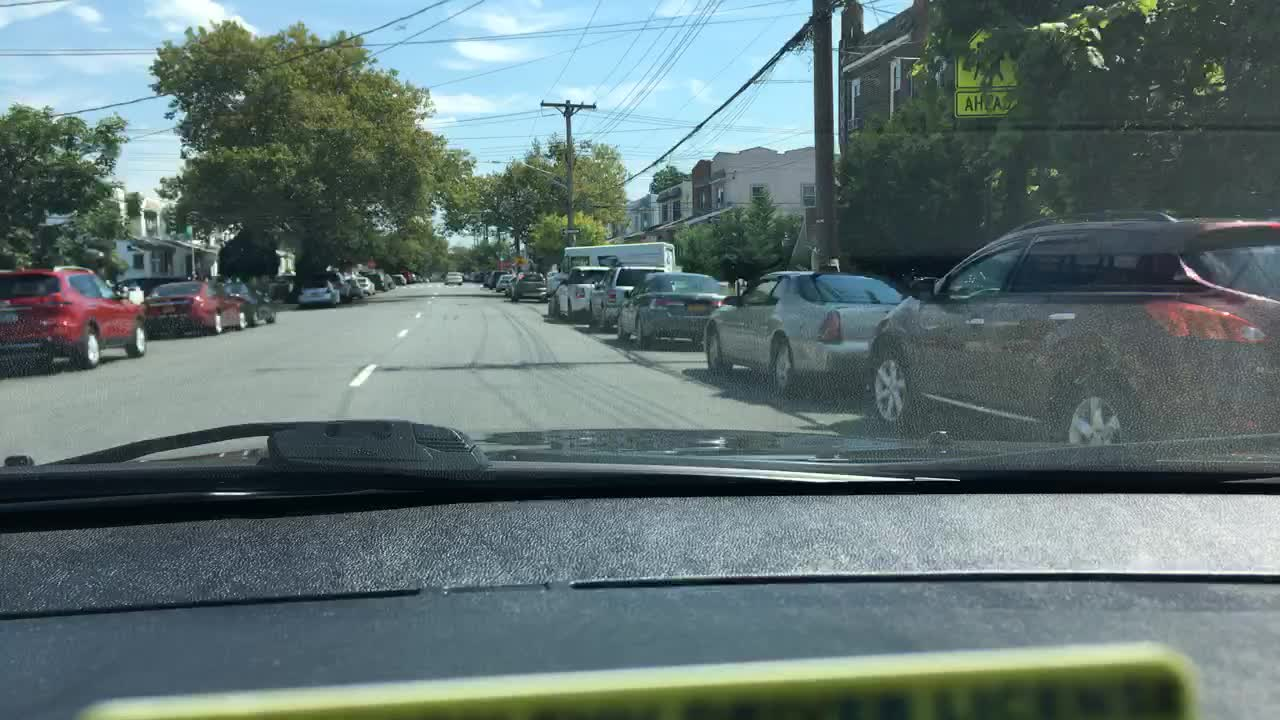bus: (546, 241, 676, 301)
car: (864, 213, 1278, 450), (697, 267, 906, 396), (0, 267, 148, 369), (621, 267, 727, 350), (141, 276, 249, 337), (586, 264, 672, 333), (547, 264, 613, 322), (294, 267, 353, 310), (229, 282, 278, 328), (507, 269, 549, 304), (359, 265, 397, 291), (344, 273, 379, 298), (494, 271, 520, 297), (483, 267, 509, 289), (401, 269, 429, 284), (442, 271, 466, 286), (388, 273, 414, 286), (467, 269, 483, 282)
traffic sign: (954, 0, 1222, 121), (559, 226, 583, 235)
